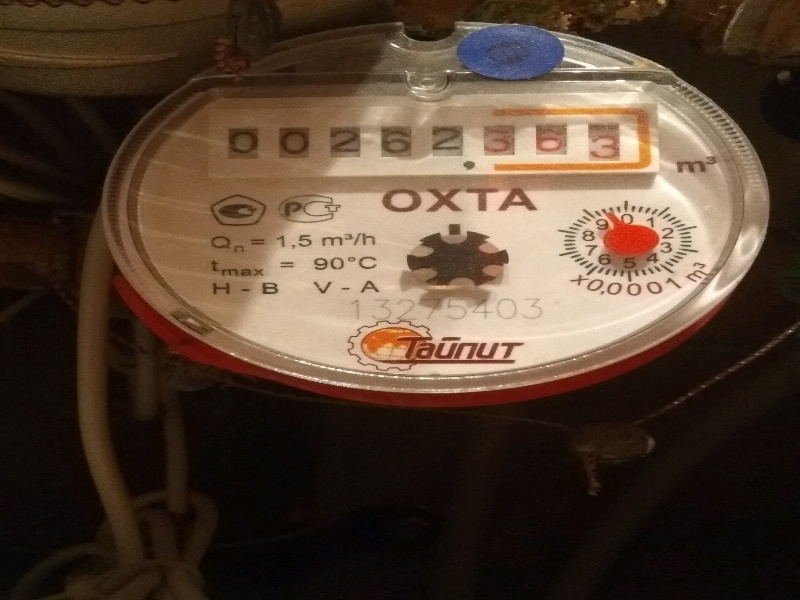meter: (213, 111, 653, 168)
